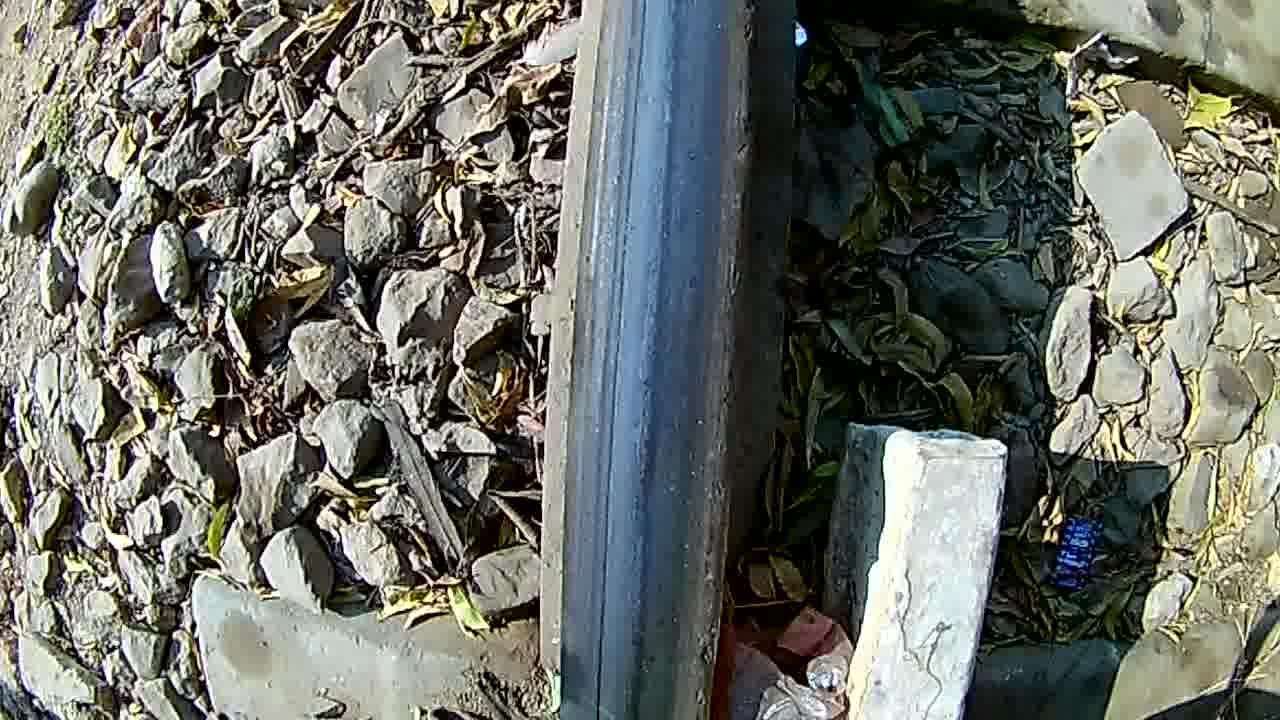clip_missing: (554, 0, 763, 720)
